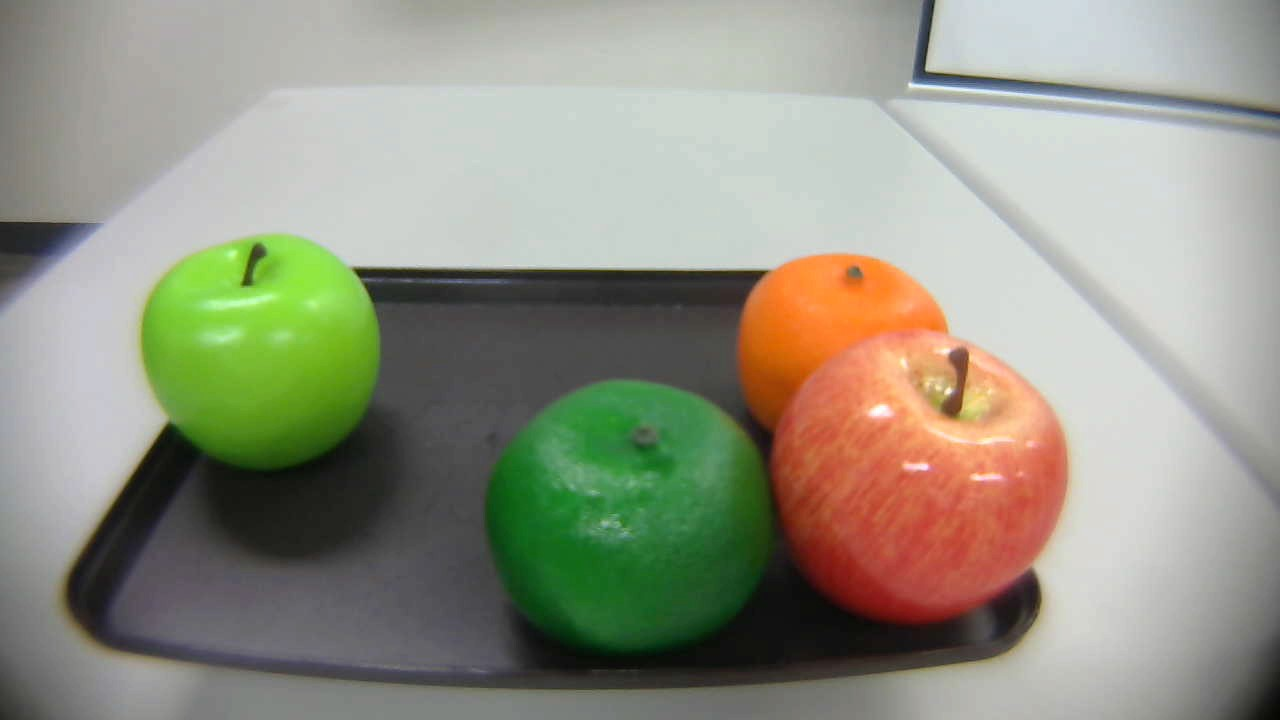green apple: (128, 225, 386, 483)
green orange: (484, 375, 782, 666)
orange: (723, 250, 965, 458)
red apple: (757, 329, 1078, 634)
